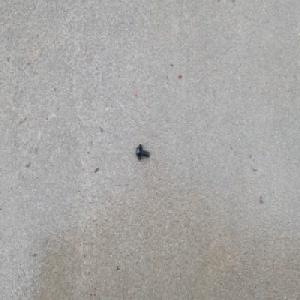BoltWasher: (135, 143, 149, 160)
